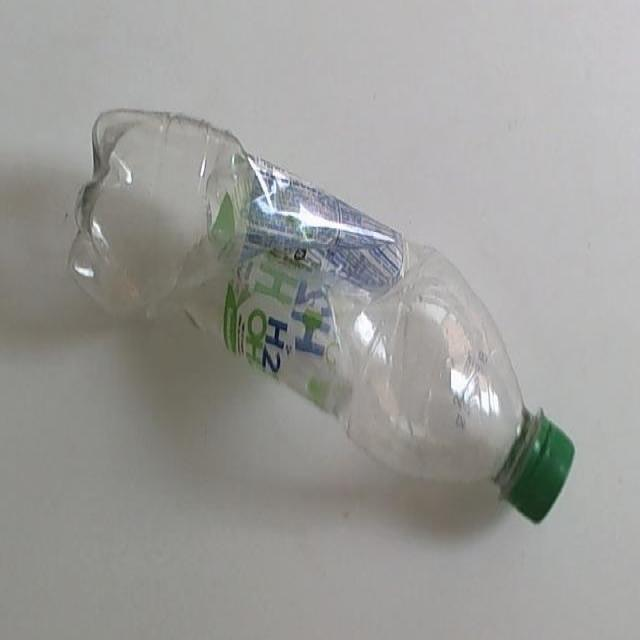defect: (63, 102, 579, 530)
